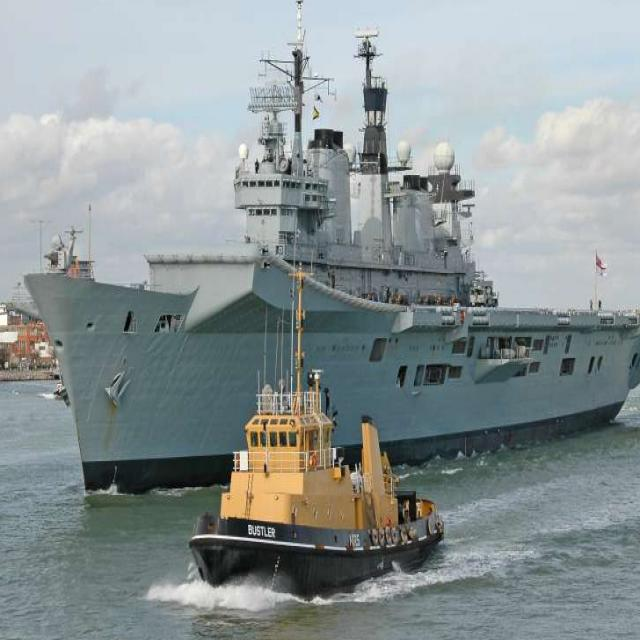Portanaves: (17, 1, 640, 508)
